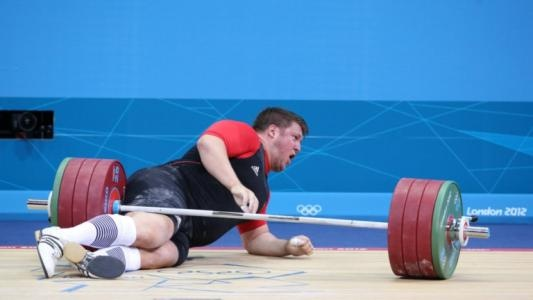falling: (30, 101, 317, 284)
